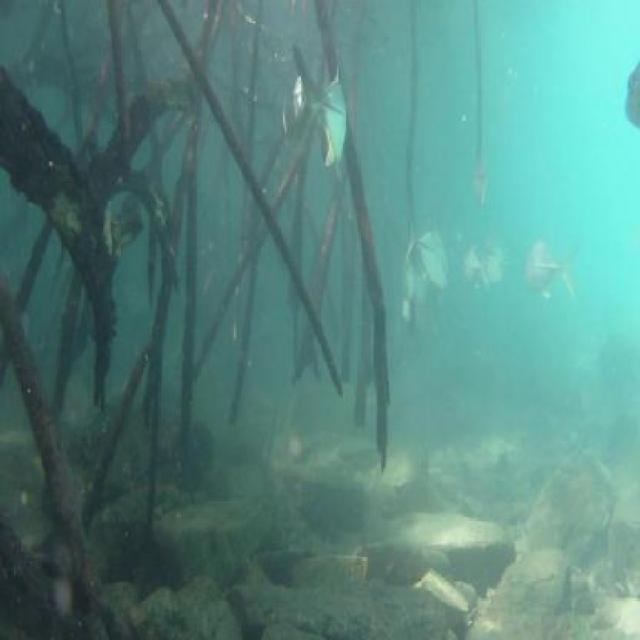Caranx_sexfasciatus_juvenile: (287, 35, 353, 179), (515, 229, 582, 306), (405, 212, 449, 306), (452, 233, 480, 298), (284, 64, 311, 131), (479, 243, 503, 294), (472, 153, 488, 215)
